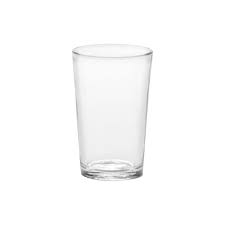glass: (69, 40, 157, 183)
